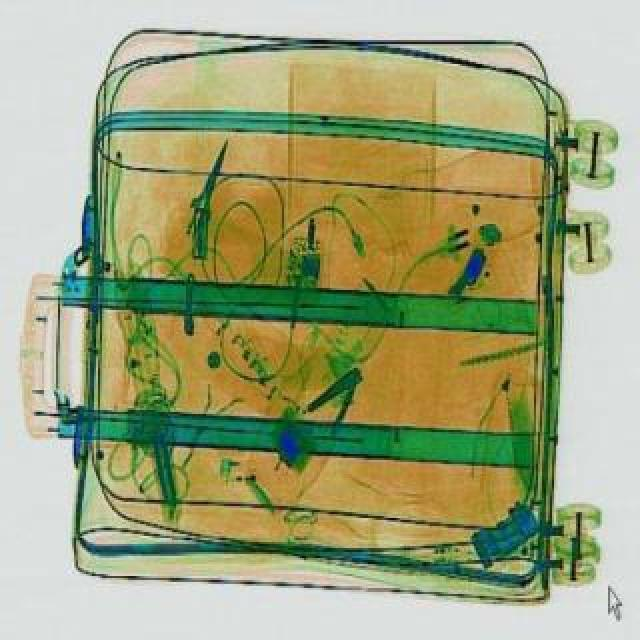knife: (176, 136, 236, 240)
